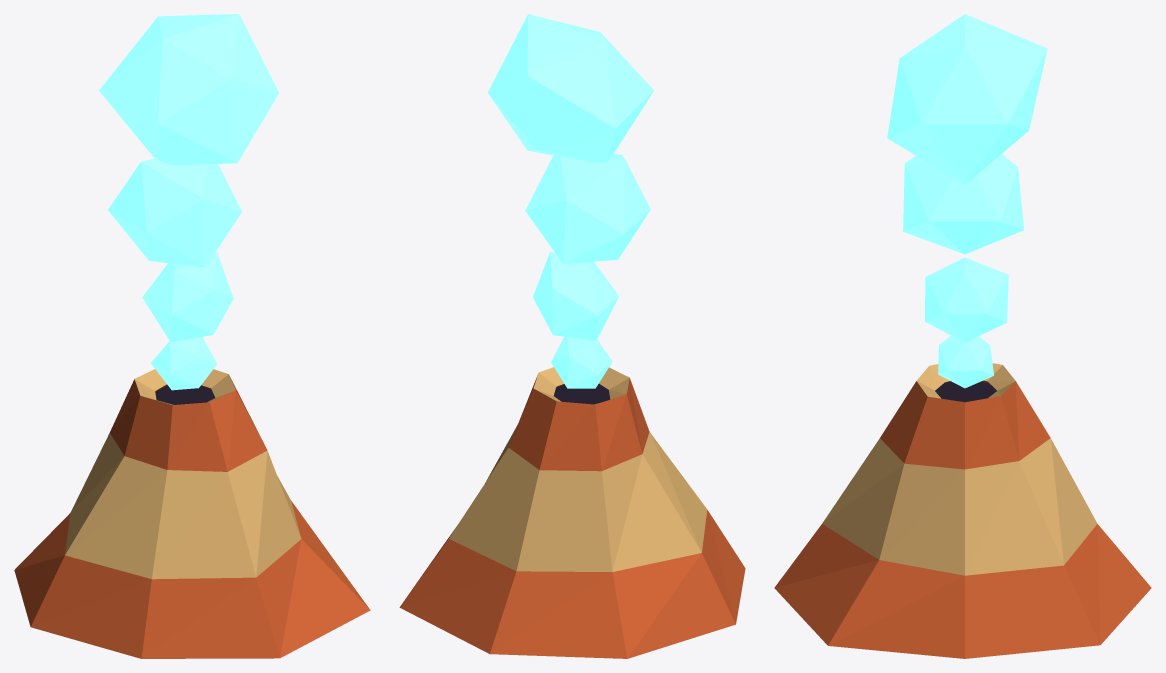
File: Nat_Geyser_A.fbx
3 views of the same model, side by side, from view 1: azimuth 30°, elevation 25°; view 2: azimuth 150°, elevation 25°; view 3: azimuth 270°, elevation 25° (orthographic).
Visible parts, largest first — view 1: Nat_Geyser_A_Body, Nat_Geyser_A_Plume; view 2: Nat_Geyser_A_Body, Nat_Geyser_A_Plume; view 3: Nat_Geyser_A_Body, Nat_Geyser_A_Plume.
Part boxes in pixels (box(x1,y1,x2,y2)): Nat_Geyser_A_Body: box(14, 369, 370, 658); Nat_Geyser_A_Plume: box(99, 14, 278, 390); Nat_Geyser_A_Body: box(399, 367, 745, 658); Nat_Geyser_A_Plume: box(488, 14, 653, 388); Nat_Geyser_A_Body: box(774, 363, 1151, 658); Nat_Geyser_A_Plume: box(887, 14, 1047, 388).
Bounding box in the file's own units: 2.21 × 3.98 × 2.4.
